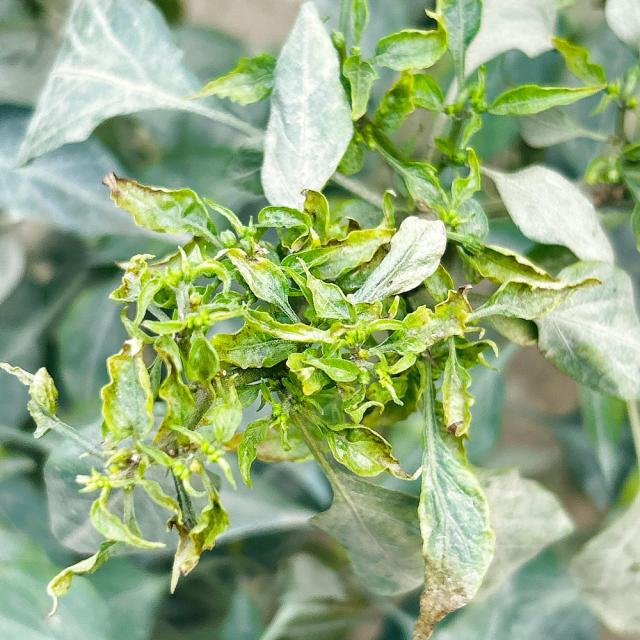Chilli_Leaf_Curl: (2, 1, 638, 636), (14, 0, 273, 169), (410, 350, 496, 638), (258, 1, 354, 212), (347, 214, 448, 306), (101, 170, 217, 240)
